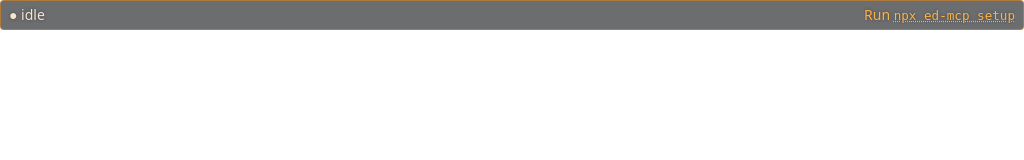
Test: click targets › keeps the clicks while a hovered command notice is replaced by another
Later steps or results of the test are not shown.
Hover over the element with class "notice" at (940, 15), box [864,5,1015,25]
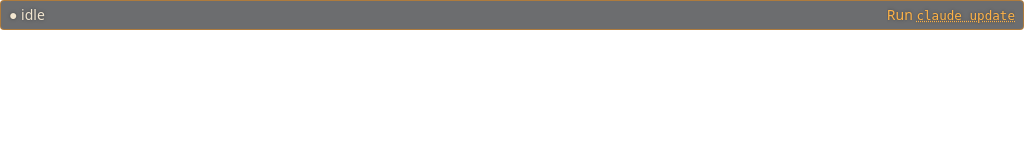
Now the text "claude update" is shown, box [916,8,1015,23]
